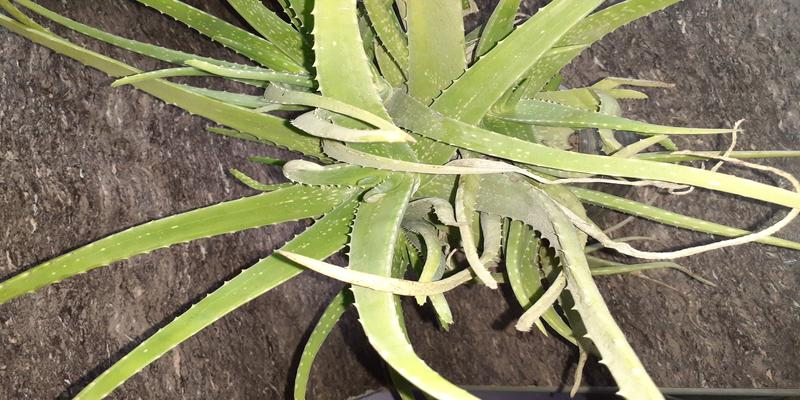Aloevera: (224, 20, 656, 314)
